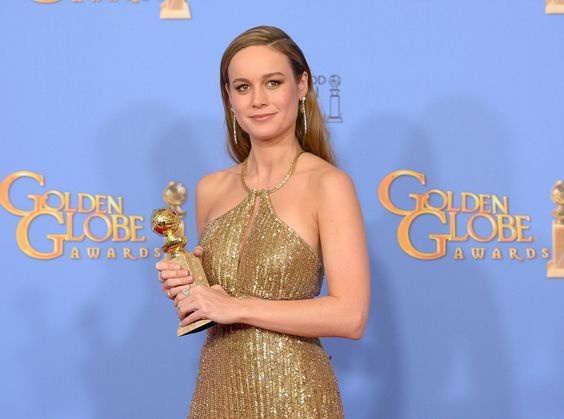hand: (156, 250, 202, 291)
